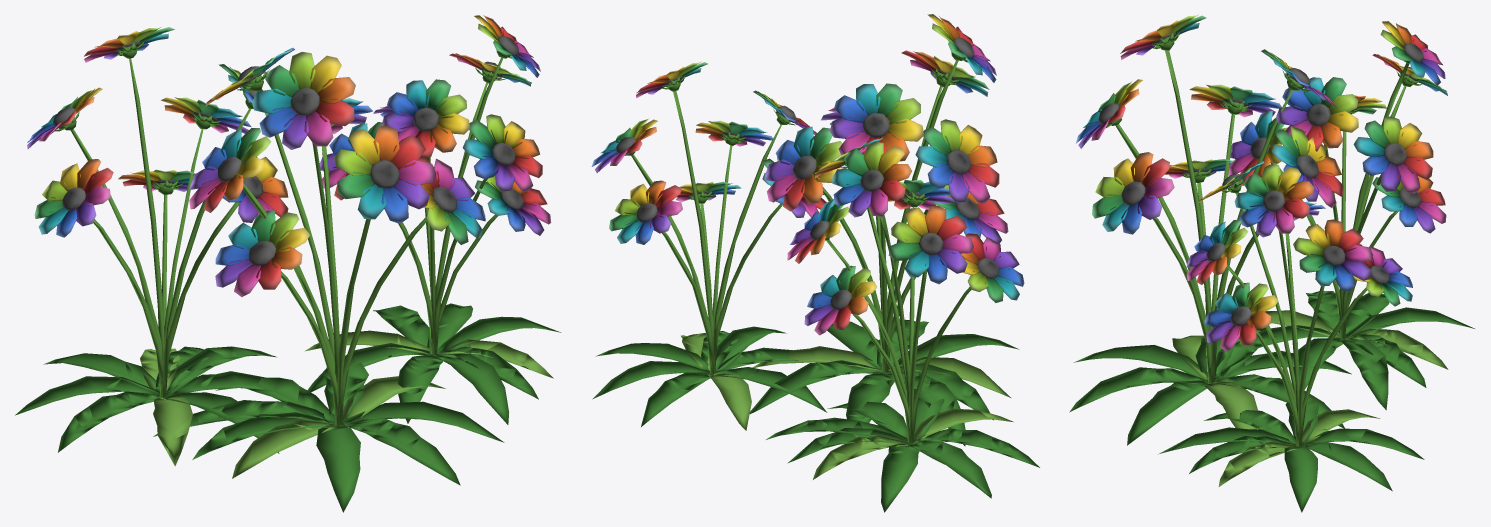
The model's file is wild_pigment_flower.glb.
3 renders of one model, left to right at view 1: azimuth 30°, elevation 25°; view 2: azimuth 150°, elevation 25°; view 3: azimuth 270°, elevation 25°, orthographic. The views are drawn at different scales.
Visible parts, largest first — view 1: WildPigmentFlower; view 2: WildPigmentFlower; view 3: WildPigmentFlower.
Boxes of the visible parts, <box> form: WildPigmentFlower: <box>15,15,561,512</box>; WildPigmentFlower: <box>591,14,1039,512</box>; WildPigmentFlower: <box>1069,14,1474,512</box>.
Size of the model in its own units: 0.9455 by 0.7295 by 0.7453.
